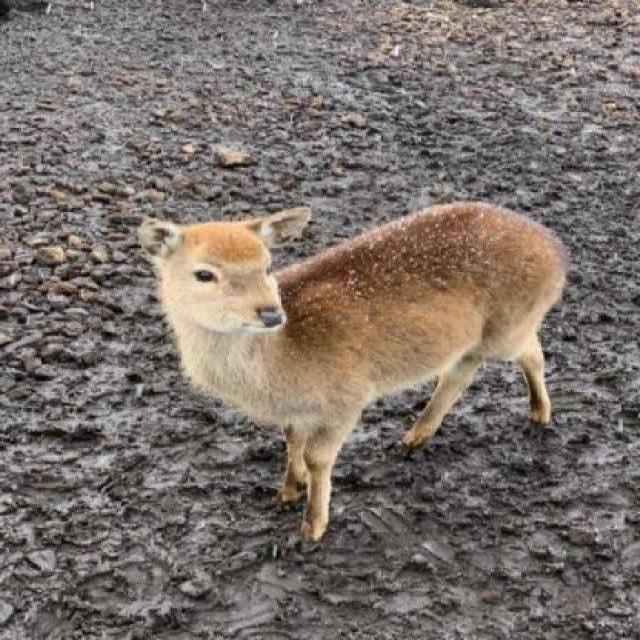deer: (130, 172, 566, 575)
